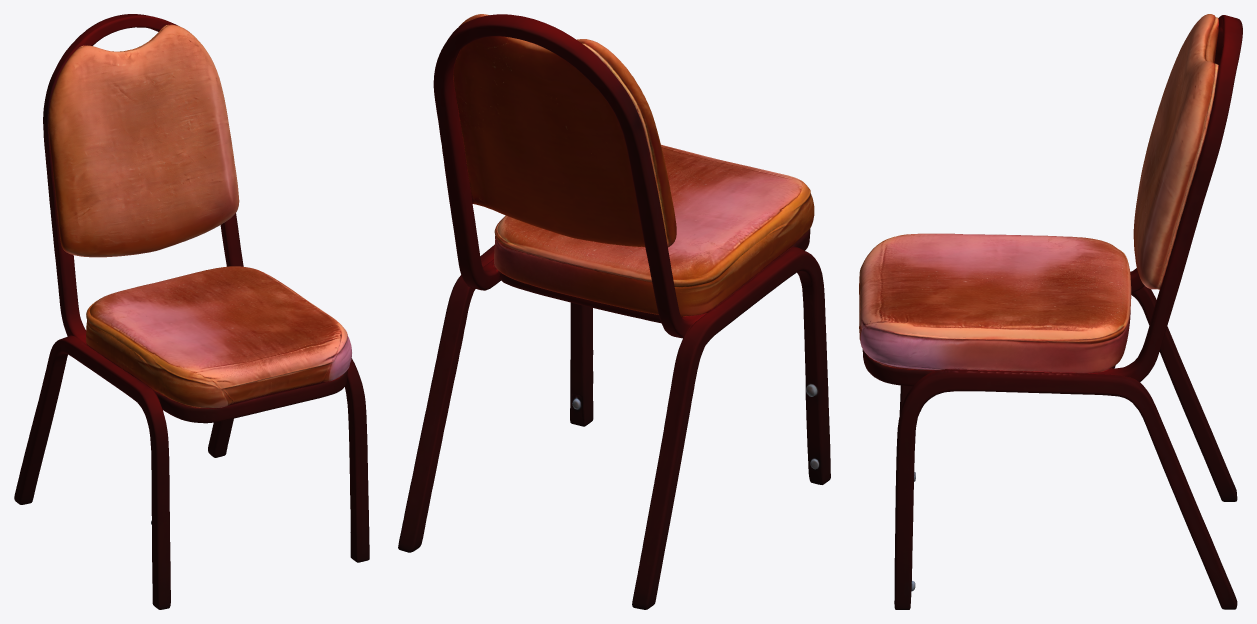
The model's file is chair.glb.
3 renders of one model, left to right at view 1: azimuth 30°, elevation 25°; view 2: azimuth 150°, elevation 25°; view 3: azimuth 270°, elevation 25°, orthographic. The views are drawn at different scales.
Parts seen in each view (by area): view 1: model; view 2: model; view 3: model.
Boxes of the visible parts, x1=… form: model: x1=14, y1=14, x2=369, y2=609; model: x1=398, y1=14, x2=830, y2=609; model: x1=859, y1=14, x2=1242, y2=609.
Size of the model in its own units: 0.42 by 0.88 by 0.58.
1 material, 1 textured.
